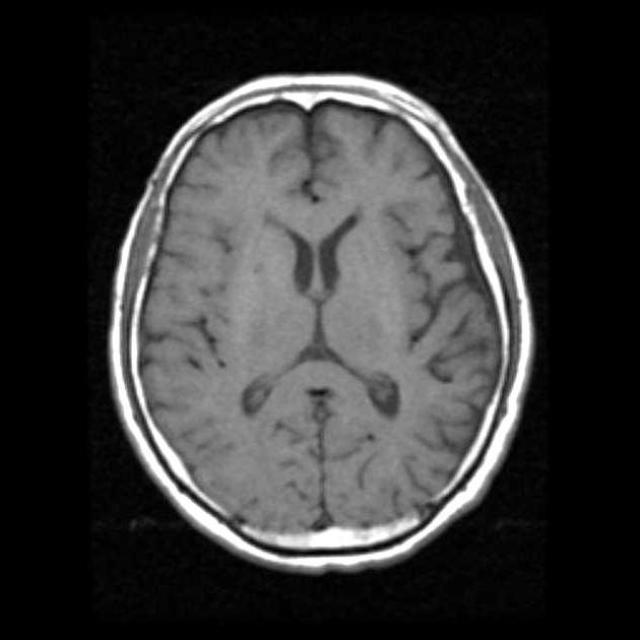No_Tumor: (109, 74, 533, 571)
